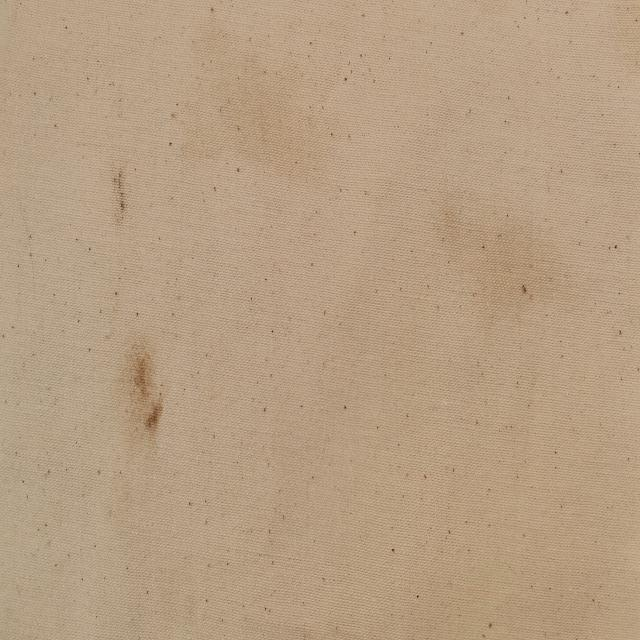taaaches: (118, 333, 170, 448), (106, 159, 130, 231)
